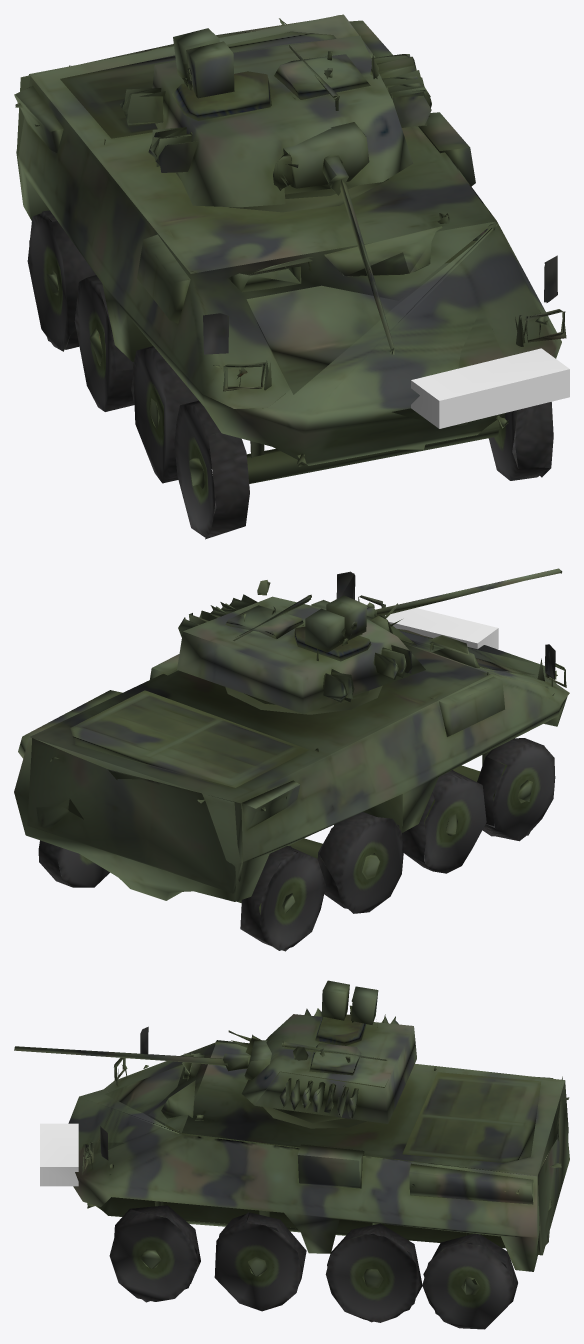
Rendered from cn-zbl-09.glb.
3 views of the same model, one above another, from view 1: azimuth 30°, elevation 25°; view 2: azimuth 150°, elevation 25°; view 3: azimuth 270°, elevation 25° (orthographic). The views are drawn at different scales.
Visible parts, largest first — view 1: cn-zbl-09, turret; view 2: cn-zbl-09, turret; view 3: cn-zbl-09, turret.
Part boxes in pixels (box(x1,y1,x2,y2)): cn-zbl-09: box(14, 15, 569, 539); turret: box(29, 14, 557, 354); cn-zbl-09: box(14, 572, 569, 951); turret: box(30, 568, 562, 803); cn-zbl-09: box(40, 1026, 569, 1329); turret: box(14, 980, 564, 1176).
Size of the model in its own units: 0.602 by 0.4765 by 0.946.
Materials: 2 (1 with a texture image).
